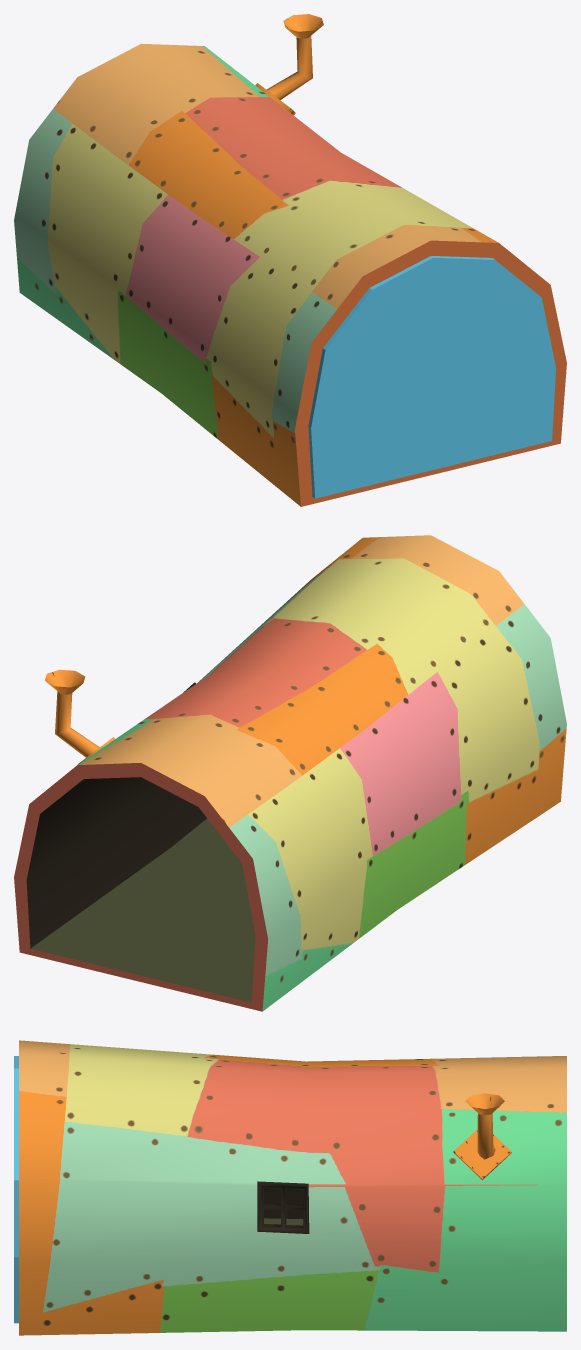
File: angar.fbx
The picture shows the model from 3 angles, top to bottom: view 1: azimuth 30°, elevation 25°; view 2: azimuth 150°, elevation 25°; view 3: azimuth 270°, elevation 25°; orthographic projection. The views are drawn at different scales.
Visible parts, largest first — view 1: angar, door.l, dooe.r, trube; view 2: angar, trube; view 3: angar, trube, dooe.r.
Boxes of the visible parts, <box> form: angar: <box>14,43,566,506</box>; door.l: <box>308,256,433,498</box>; dooe.r: <box>431,256,555,469</box>; trube: <box>255,14,323,115</box>; angar: <box>14,535,566,1011</box>; trube: <box>45,669,114,764</box>; angar: <box>19,1040,566,1335</box>; trube: <box>453,1093,511,1180</box>; dooe.r: <box>14,1068,18,1323</box>.
Bounding box in the file's own units: 398 × 338 × 737.
Materials: 6 (1 with a texture image).
